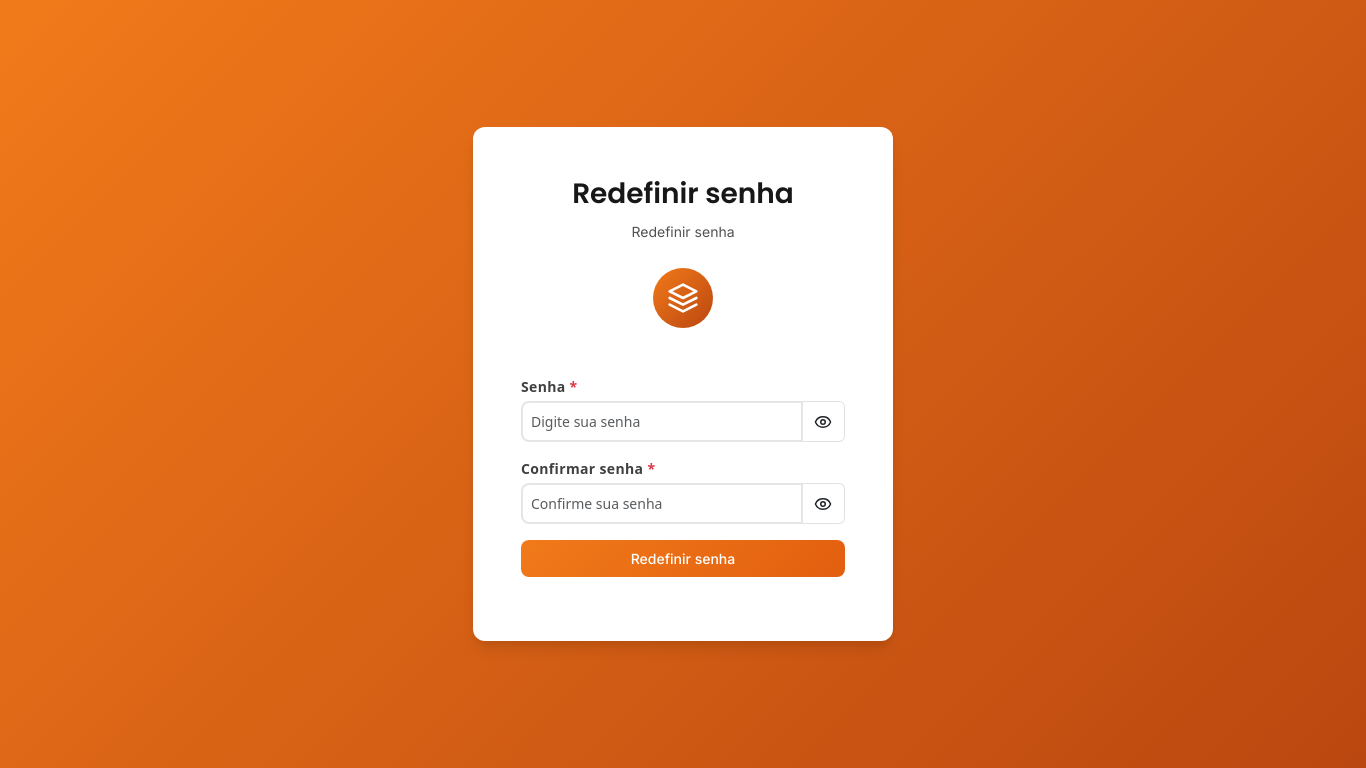
Test: ResetPassword › should show error and return to form when password reset fails
Type "NewPassword123!" into the password field with test id "password" at [662, 422], box [521,401,803,442]
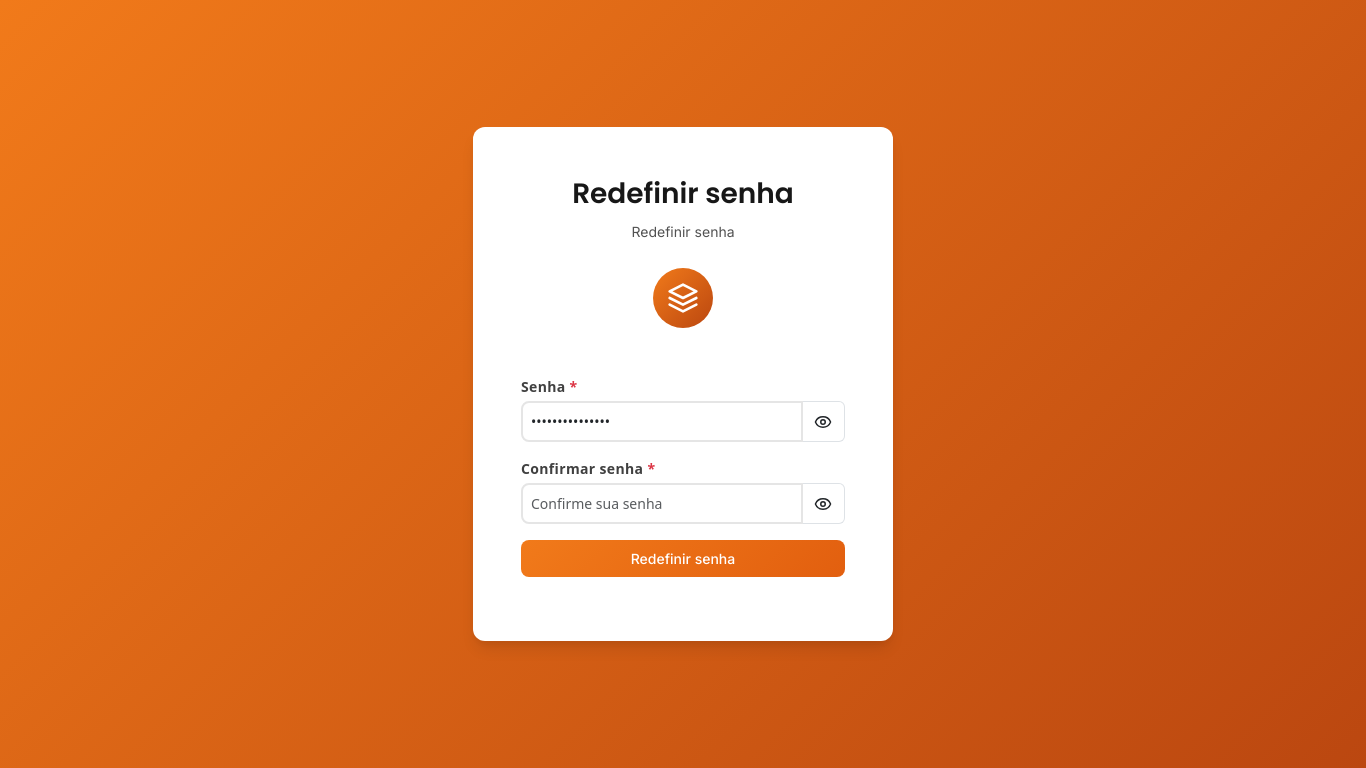
Type "NewPassword123!" into the password field with test id "confirmPassword" at [662, 504], box [521,483,803,524]
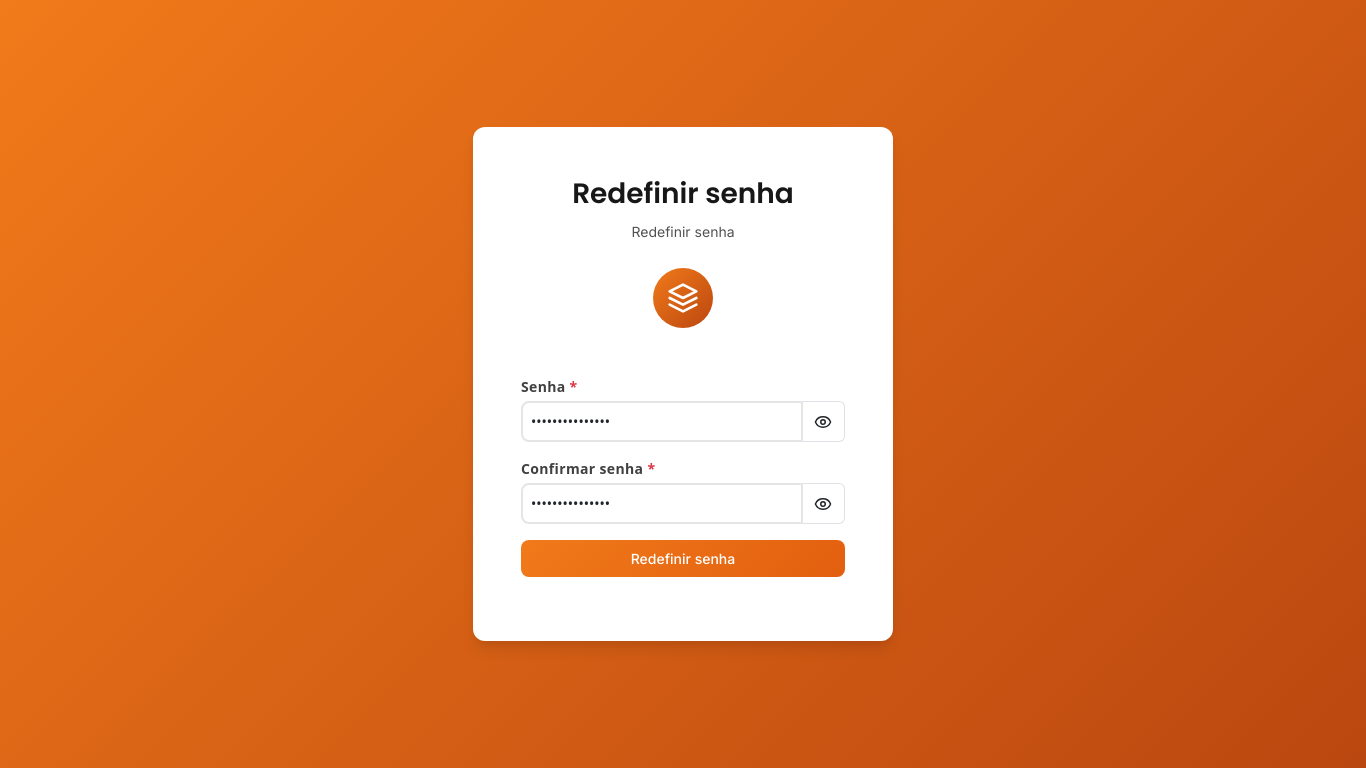
Click the button with test id "submit-button" at [683, 559], box [521,540,845,577]
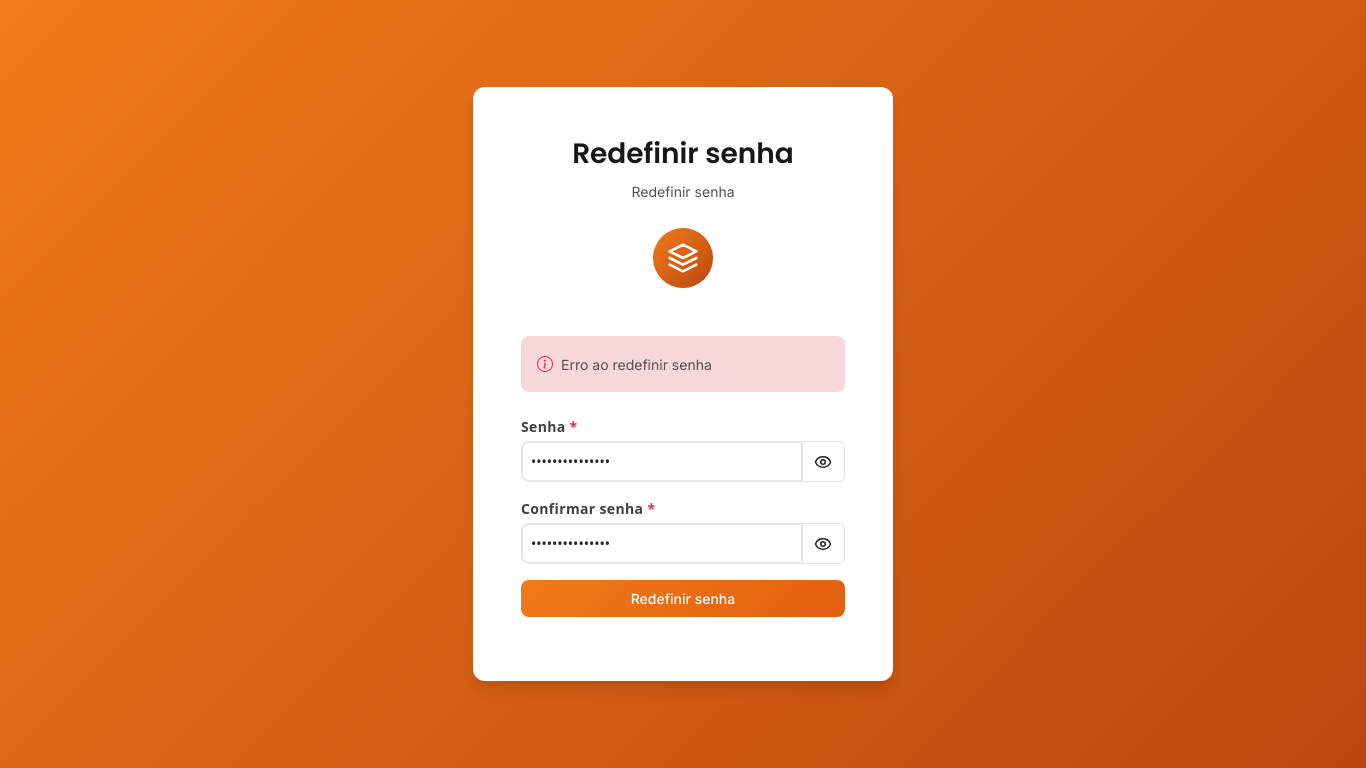
Check: the text "Erro ao redefinir senha" is shown, box [561,354,712,375]
